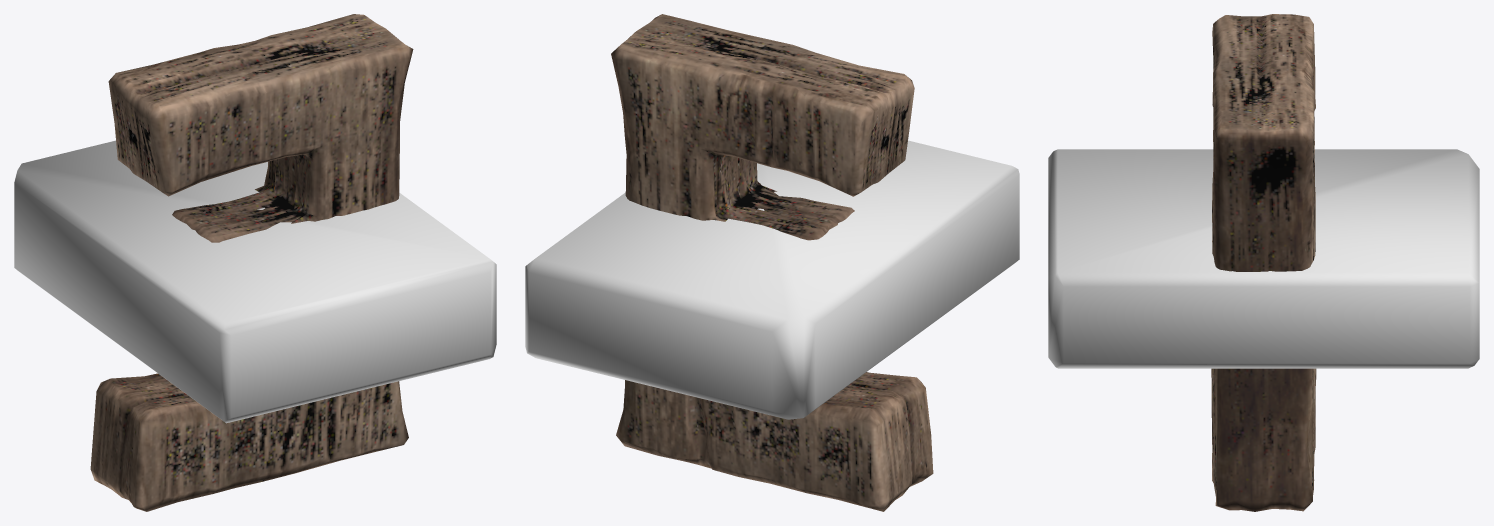
File: SM_DRUNKEN_SKULL_E.fbx
3 views of the same model, side by side, from view 1: azimuth 30°, elevation 25°; view 2: azimuth 150°, elevation 25°; view 3: azimuth 270°, elevation 25° (orthographic). The views are drawn at different scales.
Parts seen in each view (by area): view 1: SM_DRUNKEN_SKULL_E_ConvexHulls, SM_DRUNKEN_SKULL_E; view 2: SM_DRUNKEN_SKULL_E_ConvexHulls, SM_DRUNKEN_SKULL_E; view 3: SM_DRUNKEN_SKULL_E_ConvexHulls, SM_DRUNKEN_SKULL_E.
Boxes of the visible parts, x1,y1,x2,y2 form: SM_DRUNKEN_SKULL_E_ConvexHulls: (14,140,496,423); SM_DRUNKEN_SKULL_E: (90,14,413,511); SM_DRUNKEN_SKULL_E_ConvexHulls: (525,140,1019,419); SM_DRUNKEN_SKULL_E: (611,14,933,511); SM_DRUNKEN_SKULL_E_ConvexHulls: (1048,149,1479,368); SM_DRUNKEN_SKULL_E: (1211,14,1316,511).
Size of the model in its own units: 0.67 by 0.9294 by 0.9314.
